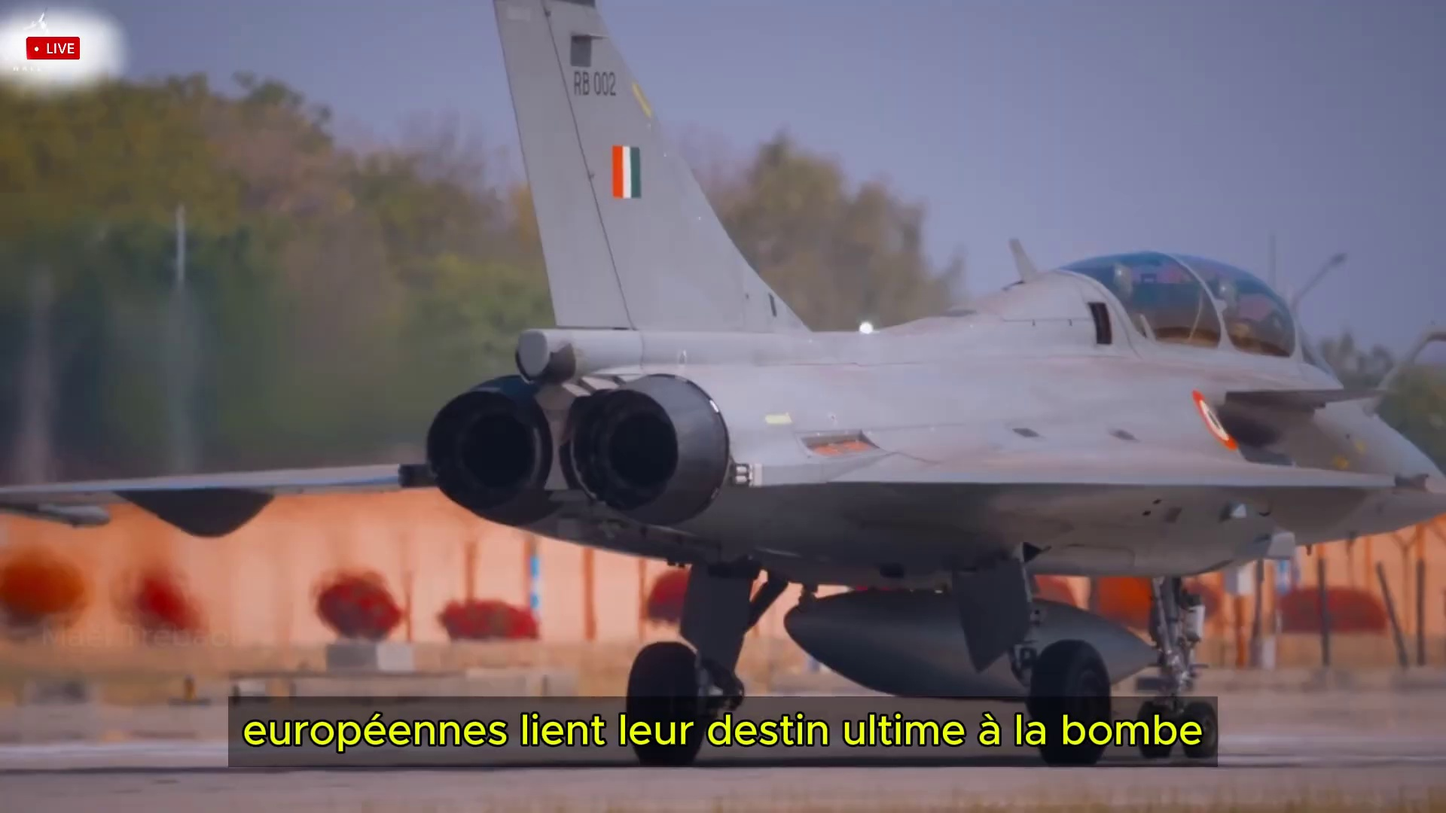Rafale: (0, 3, 1417, 764)
